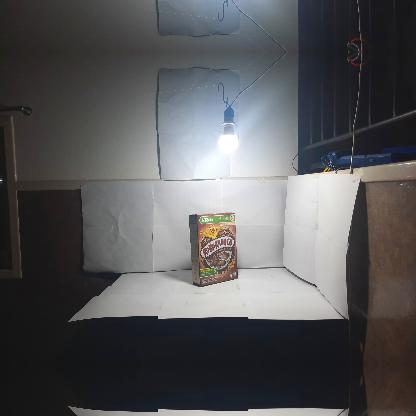Koko-Krunch: (188, 212, 237, 286)
